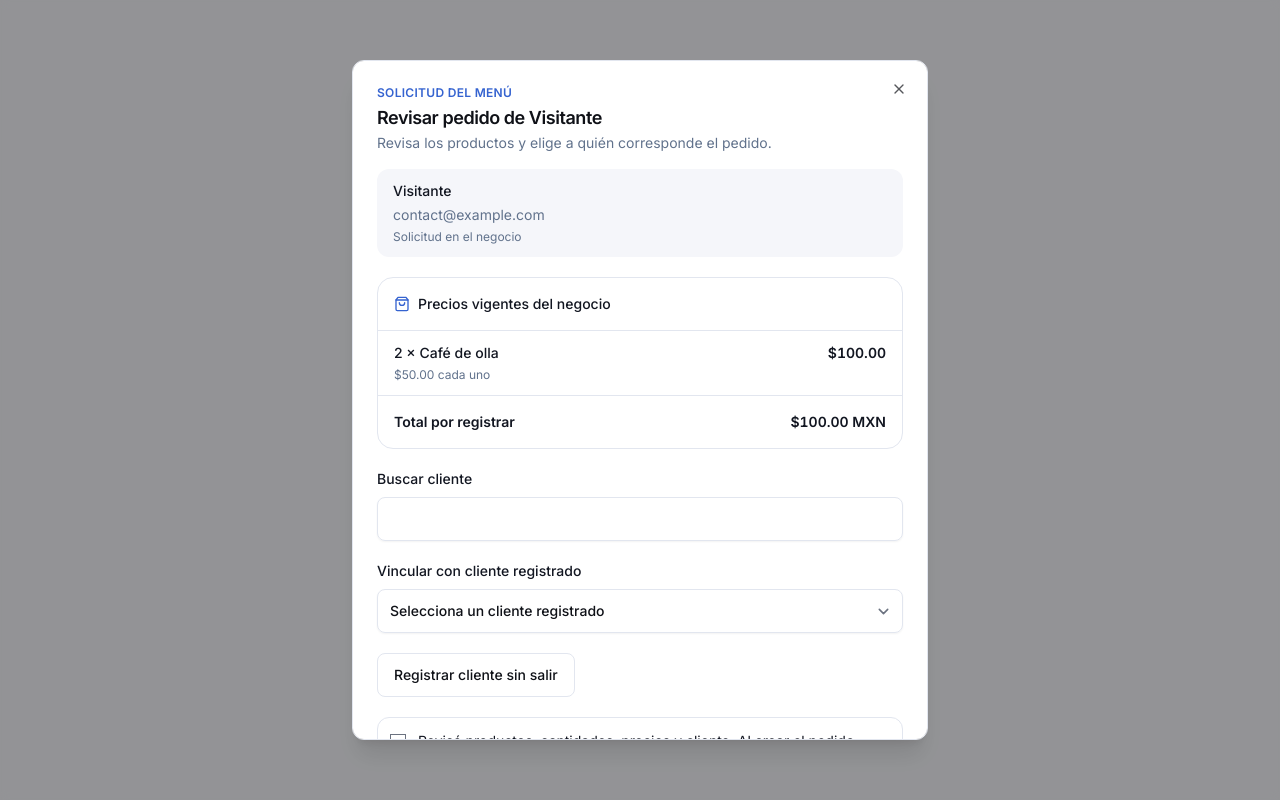
registers and selects a customer without leaving the reviewed order or guessing contact information
Expected: the text "2 × Café de olla" is shown, [394,343,499,363]
Click the button "Registrar cliente sin salir" at (476, 675), box [377,653,575,697]
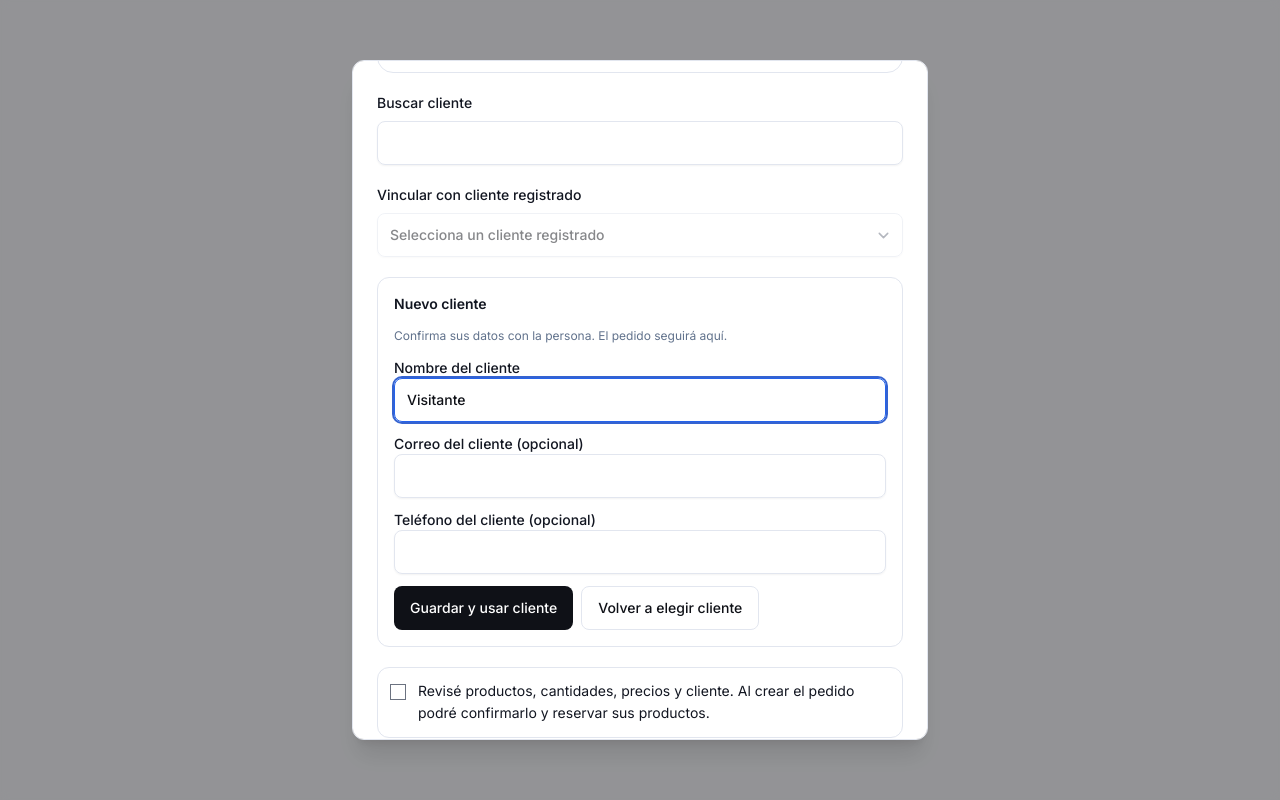
Now the field labelled "Nombre del cliente" holds "Visitante", box [394,378,886,422]
Now the field labelled "Correo del cliente (opcional)" is empty, box [394,454,886,498]
Now the field labelled "Teléfono del cliente (opcional)" is empty, box [394,530,886,574]
Submit the form named "Guardar y usar cliente", box [377,277,903,646]
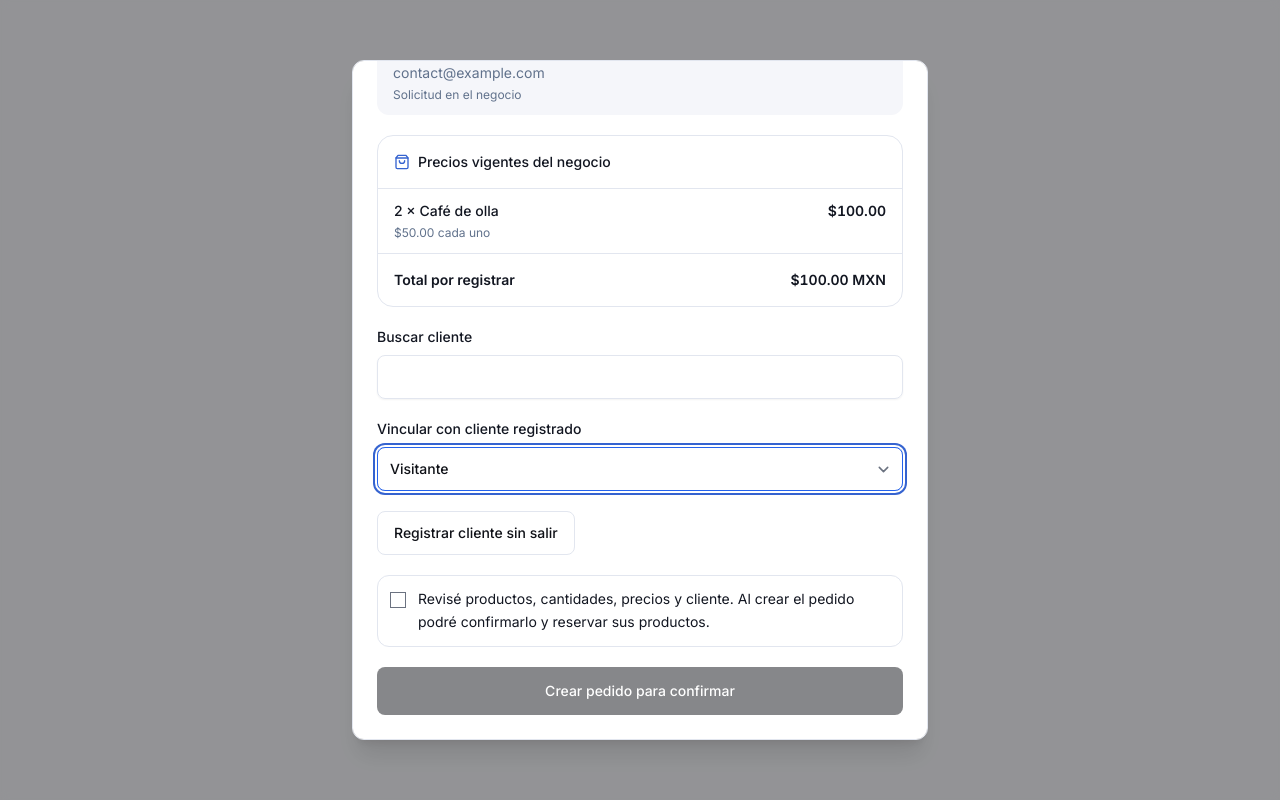
Now the dropdown labelled "Vincular con cliente registrado" shows "Visitante", box [377,447,903,491]
Now the text "2 × Café de olla" is shown, box [394,201,499,221]
Now the button "Crear pedido para confirmar" is disabled, box [377,666,903,714]
Click the checkbox labelled "Revisé productos" at (398, 600), box [390,592,406,608]
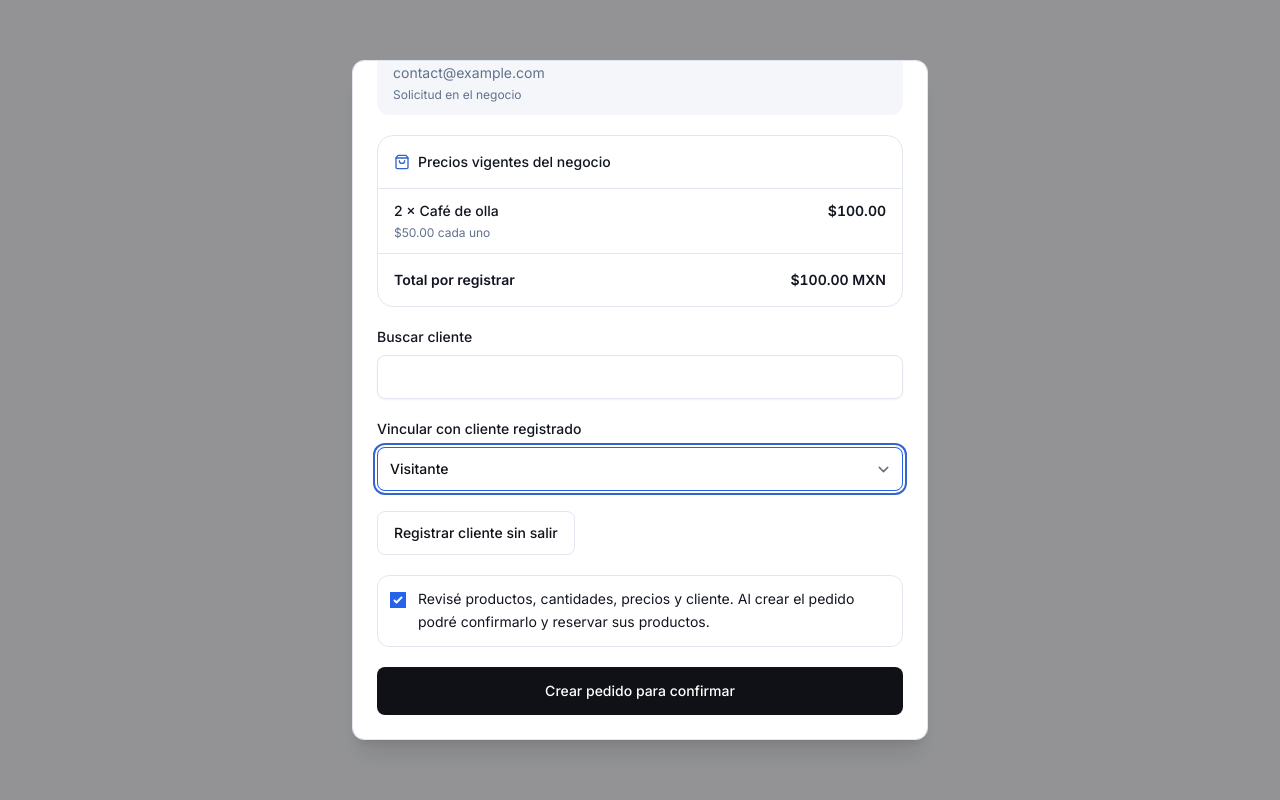
Click the button "Crear pedido para confirmar" at (640, 690), box [377,666,903,714]
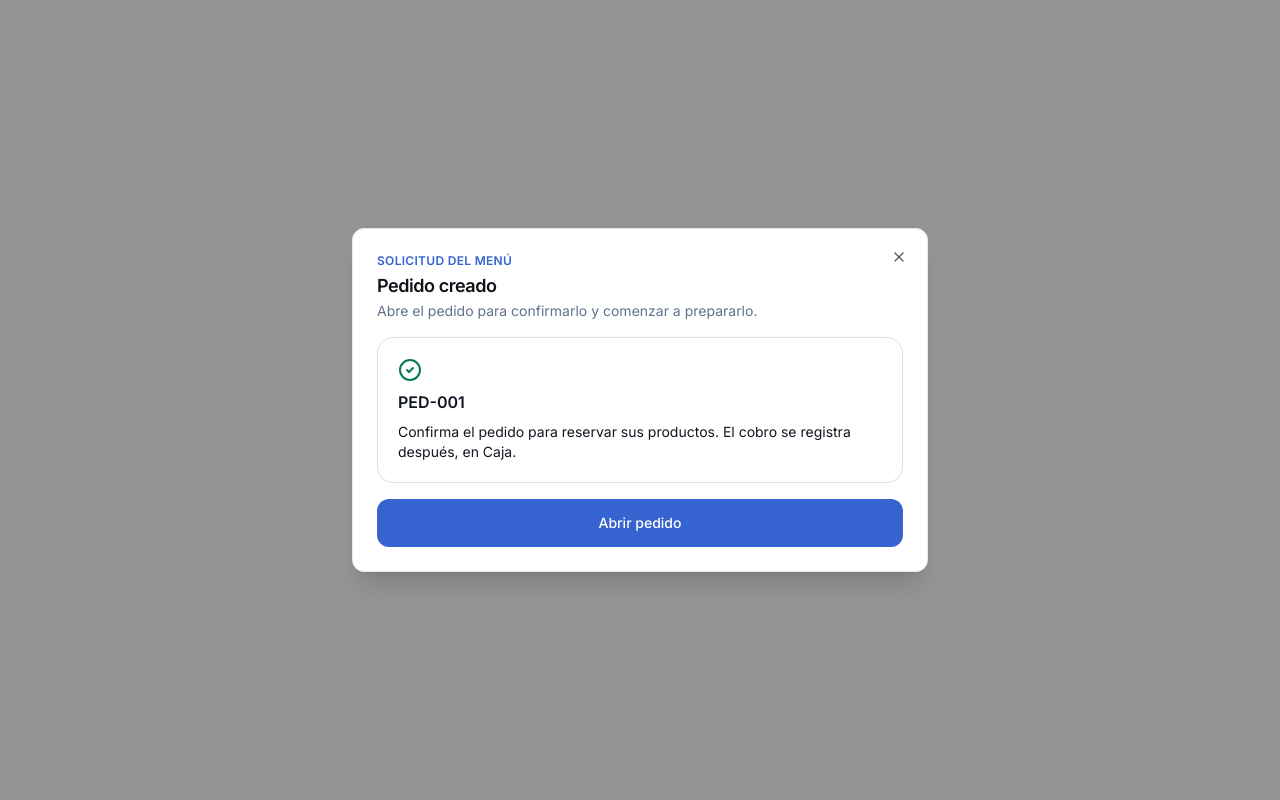
Now the link "Abrir pedido" is shown, box [377,499,903,547]
